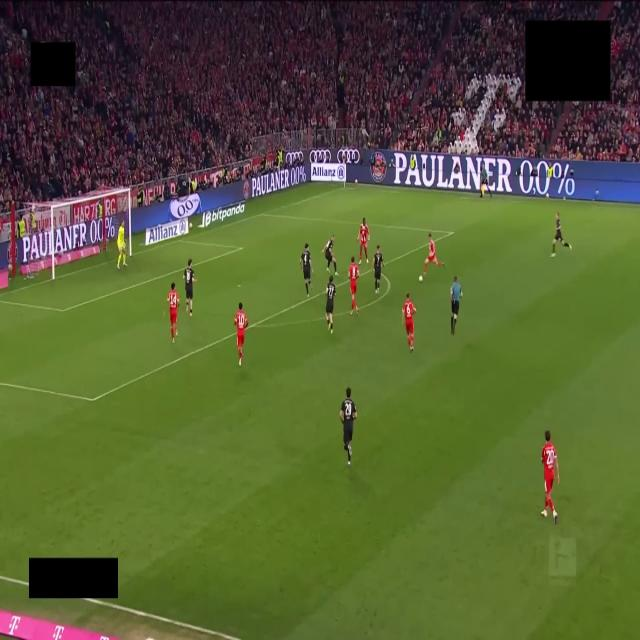ball: (419, 276, 423, 282)
player: (541, 431, 559, 523), (340, 388, 356, 466), (551, 212, 571, 257), (234, 302, 248, 366), (424, 233, 444, 274), (402, 293, 416, 351), (167, 283, 179, 342), (348, 256, 359, 315), (184, 259, 195, 317), (300, 243, 312, 296), (324, 235, 337, 276), (326, 276, 335, 334), (358, 218, 369, 263), (374, 245, 383, 294), (117, 221, 126, 269)
referee: (450, 276, 462, 335)
